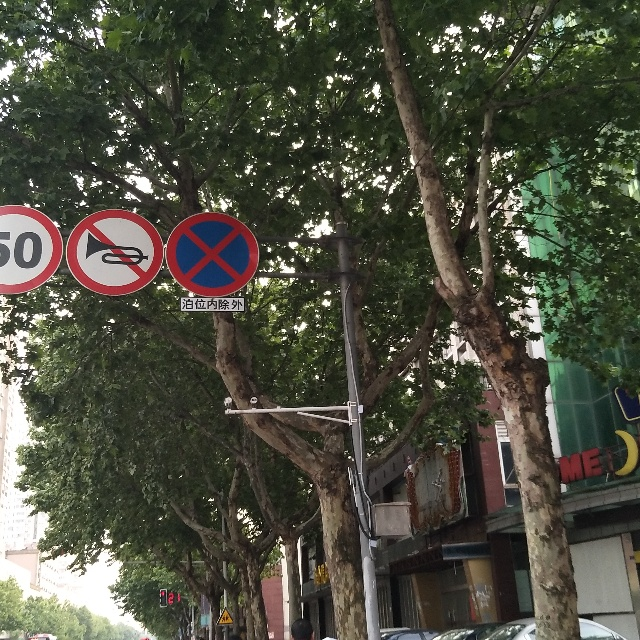nohonk: (73, 213, 160, 286)
stop: (172, 216, 259, 294)
